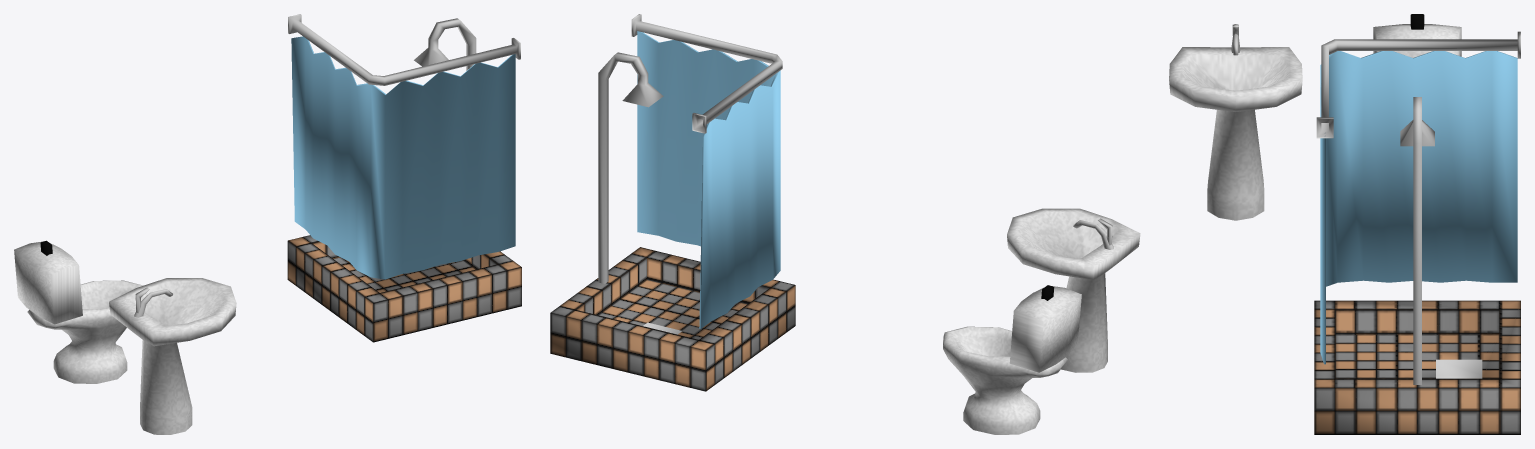
The picture shows the model from 3 angles, left to right: view 1: azimuth 30°, elevation 25°; view 2: azimuth 150°, elevation 25°; view 3: azimuth 270°, elevation 25°; orthographic projection. The views are drawn at different scales.
Visible parts, largest first — view 1: Dush, Moika, Unitaz; view 2: Dush, Unitaz, Moika; view 3: Dush, Moika, Unitaz.
Boxes of the visible parts, bbox=[...] form: Dush: bbox=[287, 14, 521, 342]; Moika: bbox=[109, 278, 236, 434]; Unitaz: bbox=[14, 240, 143, 383]; Dush: bbox=[550, 14, 795, 391]; Unitaz: bbox=[943, 285, 1081, 434]; Moika: bbox=[1007, 208, 1140, 372]; Dush: bbox=[1314, 31, 1520, 434]; Moika: bbox=[1169, 24, 1302, 220]; Unitaz: bbox=[1373, 14, 1461, 57].
Size of the model in its own units: 484 by 269 by 271.
Materials: 1 (1 with a texture image).
